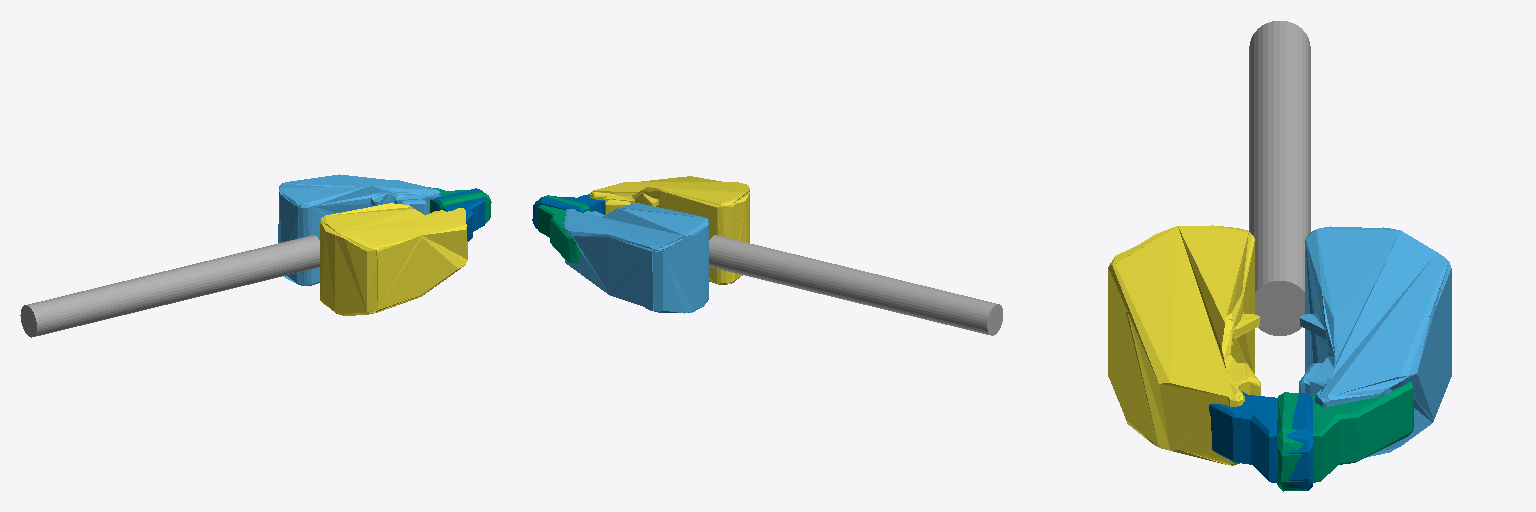
URDF robot description (basic_gripper):
<?xml version="1.0"?>
<robot name="basic_gripper">
  <link name="gripper_pole">
    <visual>
      <geometry>
        <cylinder length="0.2" radius=".01"/>
      </geometry>
      <origin rpy="0 1.57075 0 " xyz="0.1 0 0"/>
      <material name="Gray">
        <color rgba=".7 .7 .7 1"/>
      </material>
    </visual>
    <collision>
      <geometry>
        <cylinder length="0.2" radius=".01"/>
      </geometry>
      <origin rpy="0 1.57075 0 " xyz="0.1 0 0"/>
    </collision>
    <inertial>
      <mass value="0.5"/>
      <inertia ixx="1.0" ixy="0.0" ixz="0.0" iyy="1.0" iyz="0.0" izz="1.0"/>
    </inertial>
  </link>


  <joint name="left_gripper_joint" type="revolute">
    <axis xyz="0 0 1"/>
    <limit effort="1000.0" lower="-2.0" upper="2.548" velocity="0.5"/>
    <origin rpy="0 0 0" xyz="0.2 0.01 0"/>
    <parent link="gripper_pole"/>
    <child link="left_gripper"/>
  </joint>

  <link name="left_gripper">
    <contact>
      <lateral_friction value="1.0"/>
      <spinning_friction value="1.5"/>
    </contact>
    <visual>
      <origin rpy="0.0 0 0" xyz="0 0 0"/>
      <geometry>
        <mesh filename="l_finger_collision.obj"/>
      </geometry>
    </visual>
    <collision>
      <origin rpy="0.0 0 0" xyz="0 0 0"/>
      <geometry>
        <mesh filename="l_finger_collision.obj"/>
      </geometry>
    </collision>
    <inertial>
      <mass value="0.1"/>
      <inertia ixx="1.0" ixy="0.0" ixz="0.0" iyy="1.0" iyz="0.0" izz="1.0"/>
    </inertial>
  </link>

  <joint name="left_tip_joint" type="fixed">
    <parent link="left_gripper"/>
    <child link="left_tip"/>
  </joint>

  <link name="left_tip">
    <contact>
      <lateral_friction value="1.0"/>
      <spinning_friction value="1.5"/>
    </contact>
    <visual>
      <origin rpy="0.0 0 0" xyz="0.09137 0.00495 0"/>
      <geometry>
        <mesh filename="l_finger_tip.obj"/>
      </geometry>
    </visual>
    <collision>
      <geometry>
        <box size=".03 .01 .02"/>
      </geometry>
      <origin rpy="0.0 0.0 0" xyz="0.105 -0.005 0"/>
    </collision>
    <inertial>
      <mass value="0.1"/>
      <inertia ixx="1.0" ixy="0.0" ixz="0.0" iyy="1.0" iyz="0.0" izz="1.0"/>
    </inertial>
  </link>

  <joint name="right_gripper_joint" type="revolute">
    <axis xyz="0 0 -1"/>
    <limit effort="1000.0" lower="-2.0" upper="2." velocity="0.5"/>
    <origin rpy="0 0 0" xyz="0.2 -0.01 0"/>
    <parent link="gripper_pole"/>
    <child link="right_gripper"/>
  </joint>

  <link name="right_gripper">
    <contact>
      <lateral_friction value="1.0"/>
      <spinning_friction value="1.5"/>
    </contact>
    <visual>
      <origin rpy="-3.1415 0 0" xyz="0 0 0"/>
      <geometry>
        <mesh filename="l_finger_collision.obj"/>
      </geometry>
    </visual>
         <collision>
      <origin rpy="-3.1415 0 0" xyz="0 0 0"/>
      <geometry>
        <mesh filename="l_finger_collision.obj"/>
      </geometry>
    </collision>
    <inertial>
      <mass value="0.1"/>
      <inertia ixx="1.0" ixy="0.0" ixz="0.0" iyy="1.0" iyz="0.0" izz="1.0"/>
    </inertial>
  </link>

  <joint name="right_tip_joint" type="fixed">
    <parent link="right_gripper"/>
    <child link="right_tip"/>
  </joint>

  <link name="right_tip">
    <contact>
      <lateral_friction value="1.0"/>
      <spinning_friction value="1.5"/>
    </contact>
    <visual>
      <origin rpy="-3.1415 0 0" xyz="0.09137 0.00495 0"/>
      <geometry>
        <mesh filename="l_finger_tip.obj"/>
      </geometry>
    </visual>
    <collision>
      <geometry>
      	<box size=".03 .01 .02"/>
      </geometry>
      <origin rpy="-3.1415 0 0" xyz="0.105 0.015 0"/>
    </collision>
	<collision>
      <geometry>
        <box size=".01 .02 .02"/>
      </geometry>
      <origin rpy="-3.1415 0 -0.5" xyz="0.095 0.005 0"/>
    </collision>

    <inertial>
      <mass value="0.1"/>
      <inertia ixx="1.0" ixy="0.0" ixz="0.0" iyy="1.0" iyz="0.0" izz="1.0"/>
    </inertial>
  </link>

  <joint name="ee" type="fixed">
    <origin xyz="0.28 0 0" rpy="0 0 0" />
    <parent link="gripper_pole"/>
    <child link="eef_link"/>
    <axis xyz="0 0 1"/>
  </joint>
  <link name="eef_link">
  </link>
</robot>

--- Render facts (derived) ---
Views: 3 orthographic renders of the robot side by side, from view 1: azimuth 30°, elevation 25°; view 2: azimuth 150°, elevation 25°; view 3: azimuth 270°, elevation 25°.
Robot: basic_gripper — 6 links, 5 joints (2 revolute, 3 fixed); root link gripper_pole; default pose: every joint at zero.
Links seen in each view (by area): view 1: right_gripper, gripper_pole, left_gripper, right_tip, left_tip; view 2: left_gripper, gripper_pole, right_gripper, left_tip, right_tip; view 3: right_gripper, left_gripper, gripper_pole, left_tip, right_tip.
Boxes of the visible links, x1,y1,x2,y2 form: right_gripper: [320, 203, 467, 315]; gripper_pole: [20, 235, 319, 337]; left_gripper: [278, 174, 440, 285]; right_tip: [434, 188, 485, 241]; left_tip: [395, 187, 491, 223]; left_gripper: [563, 203, 708, 313]; gripper_pole: [709, 235, 1002, 335]; right_gripper: [590, 176, 749, 284]; left_tip: [538, 195, 589, 262]; right_tip: [532, 194, 604, 228]; right_gripper: [1108, 225, 1260, 465]; left_gripper: [1299, 226, 1451, 457]; gripper_pole: [1249, 21, 1310, 335]; left_tip: [1277, 382, 1413, 491]; right_tip: [1209, 391, 1312, 490].
Bounding box of the posed robot: 0.3224 × 0.1115 × 0.0553 m (x, y, z).
Meshes: 2 distinct files referenced, 4 mesh visuals loaded (2 OBJ).
